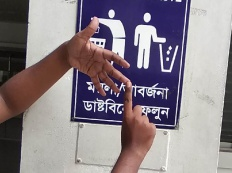u: (67, 18, 136, 107)
